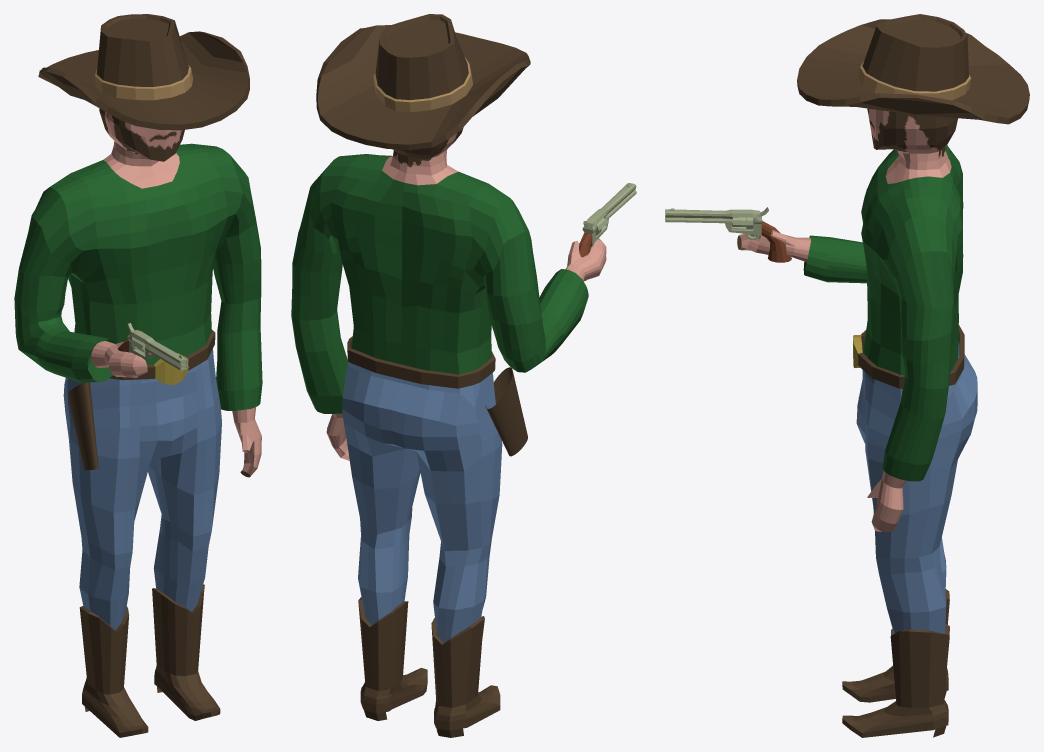
The model's file is COWBOY_DEGAINE.glb.
3 views of the same model, side by side, from view 1: azimuth 30°, elevation 25°; view 2: azimuth 150°, elevation 25°; view 3: azimuth 270°, elevation 25° (orthographic).
Parts seen in each view (by area): view 1: COWBOYYY, COWBOY_CHEMISE, COWBOY_CHAPEAU, COWBOY_FOURREAU, COWBOY_CEINTURE, Pistolet_Colt canon; view 2: COWBOY_CHEMISE, COWBOYYY, COWBOY_CHAPEAU, COWBOY_CEINTURE, COWBOY_FOURREAU, Pistolet_Colt canon; view 3: COWBOYYY, COWBOY_CHEMISE, COWBOY_CHAPEAU, Pistolet_Colt canon, COWBOY_CEINTURE, Pistolet_Colt poignee.
Part boxes in pixels (box(x1,y1,x2,y2)): COWBOYYY: box(63, 108, 261, 737); COWBOY_CHEMISE: box(14, 143, 262, 410); COWBOY_CHAPEAU: box(38, 14, 249, 130); COWBOY_FOURREAU: box(67, 382, 98, 470); COWBOY_CEINTURE: box(109, 330, 215, 384); Pistolet_Colt canon: box(127, 323, 188, 370); COWBOY_CHEMISE: box(291, 154, 588, 413); COWBOYYY: box(326, 127, 606, 737); COWBOY_CHAPEAU: box(316, 14, 530, 150); COWBOY_CEINTURE: box(347, 336, 495, 388); COWBOY_FOURREAU: box(485, 367, 527, 456); Pistolet_Colt canon: box(582, 183, 636, 244); COWBOYYY: box(737, 108, 977, 737); COWBOY_CHEMISE: box(803, 145, 963, 481); COWBOY_CHAPEAU: box(797, 14, 1029, 124); Pistolet_Colt canon: box(665, 207, 768, 239); COWBOY_CEINTURE: box(853, 324, 964, 388); Pistolet_Colt poignee: box(761, 221, 791, 262).
Bounding box in the file's own units: 0.722 × 1.94 × 0.9316.
7 materials, 5 textured.
